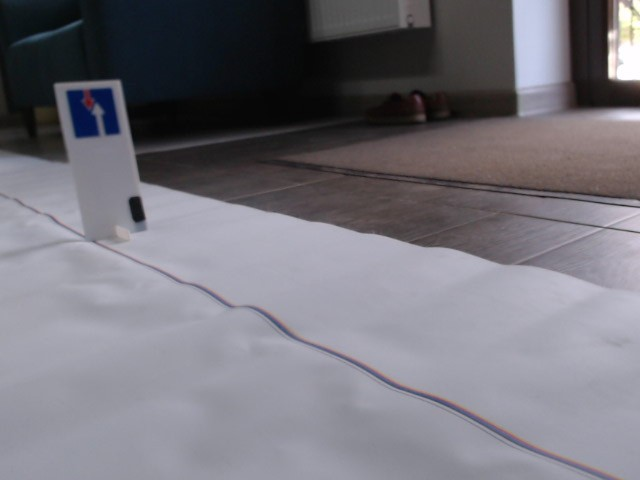priority_movement: (61, 86, 123, 139)
